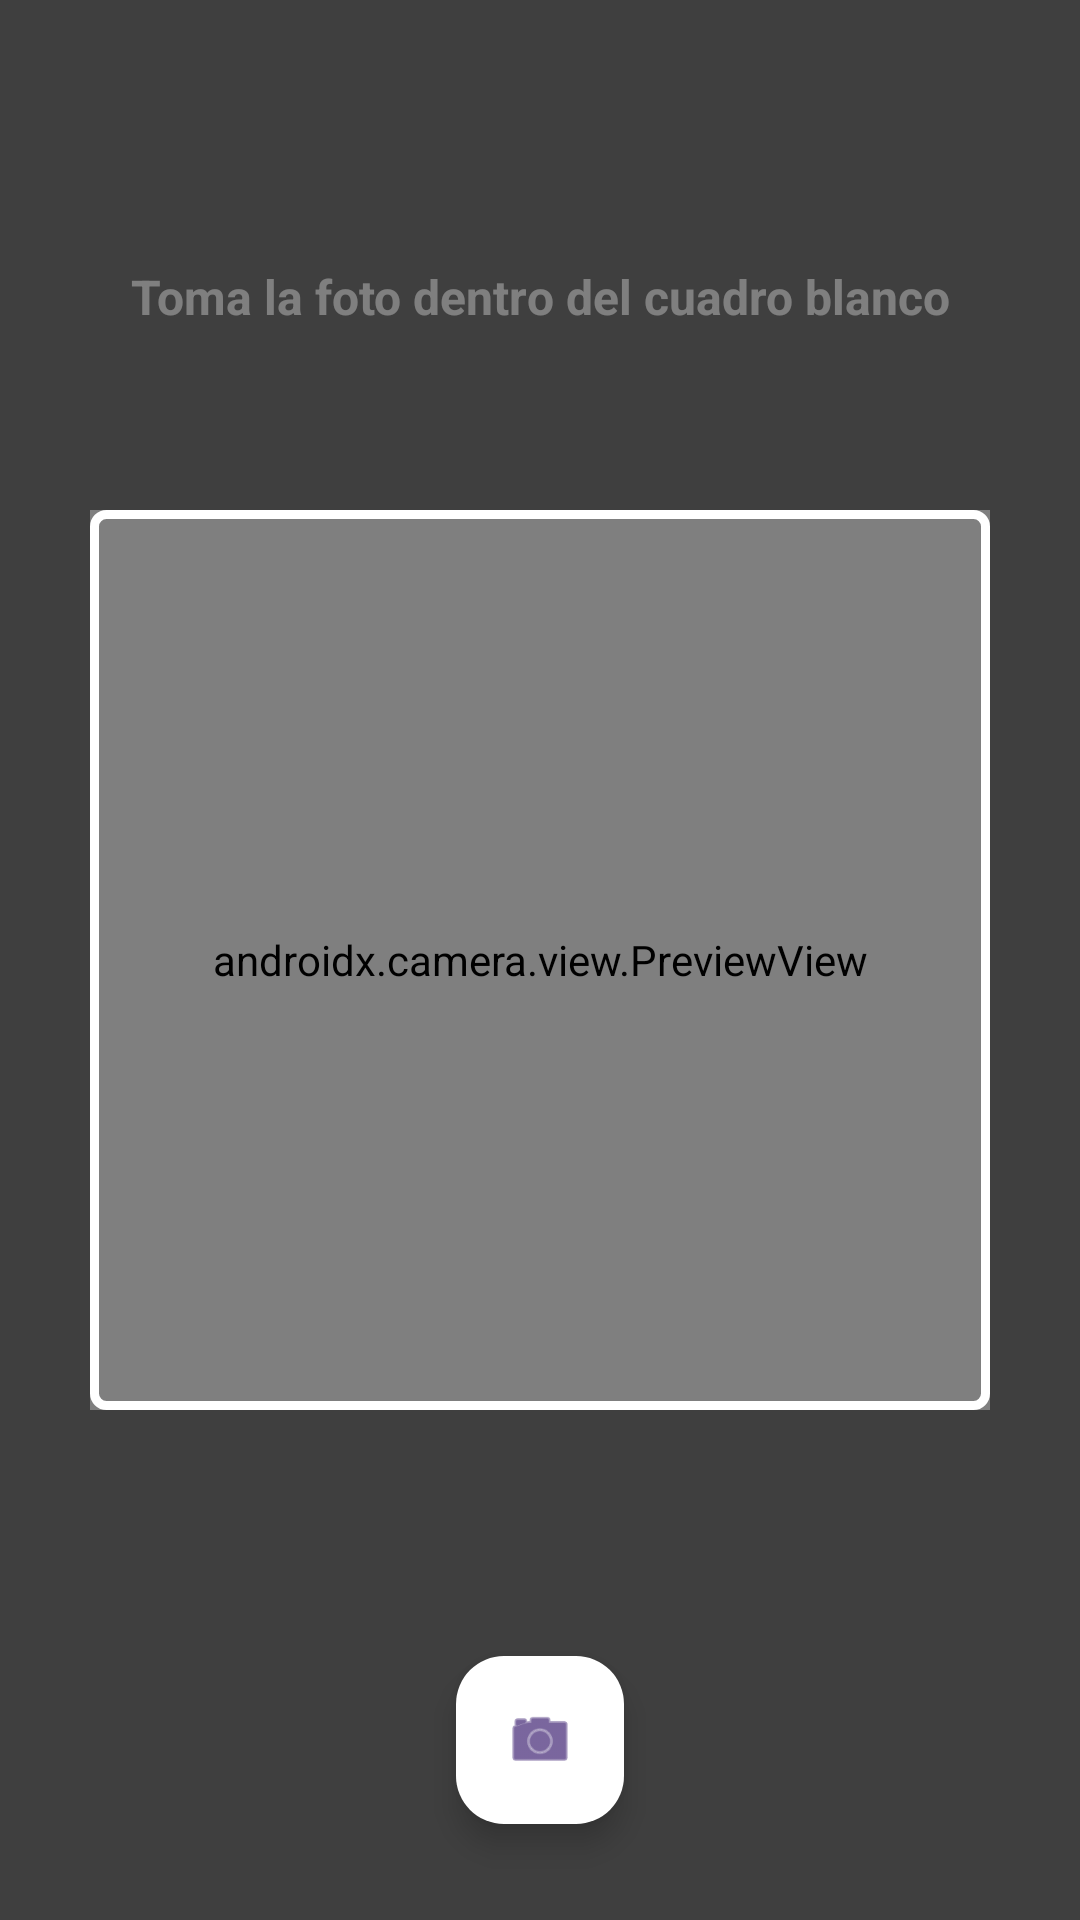

Icons on this 1080*1920 Android screen, each with its box as bbox=(x1, y1, x2, y2):
Tomar foto: bbox=(456, 1656, 624, 1824)
